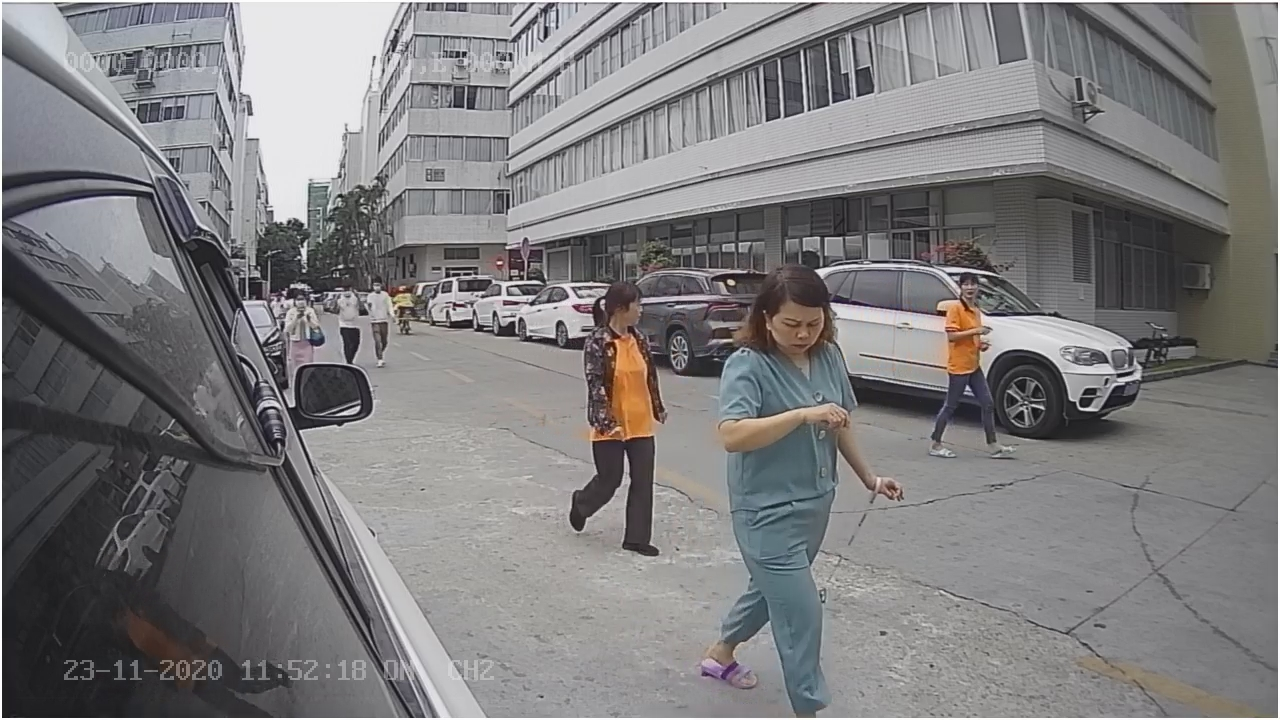person: (717, 269, 864, 708), (574, 273, 667, 554), (931, 260, 1002, 451)
